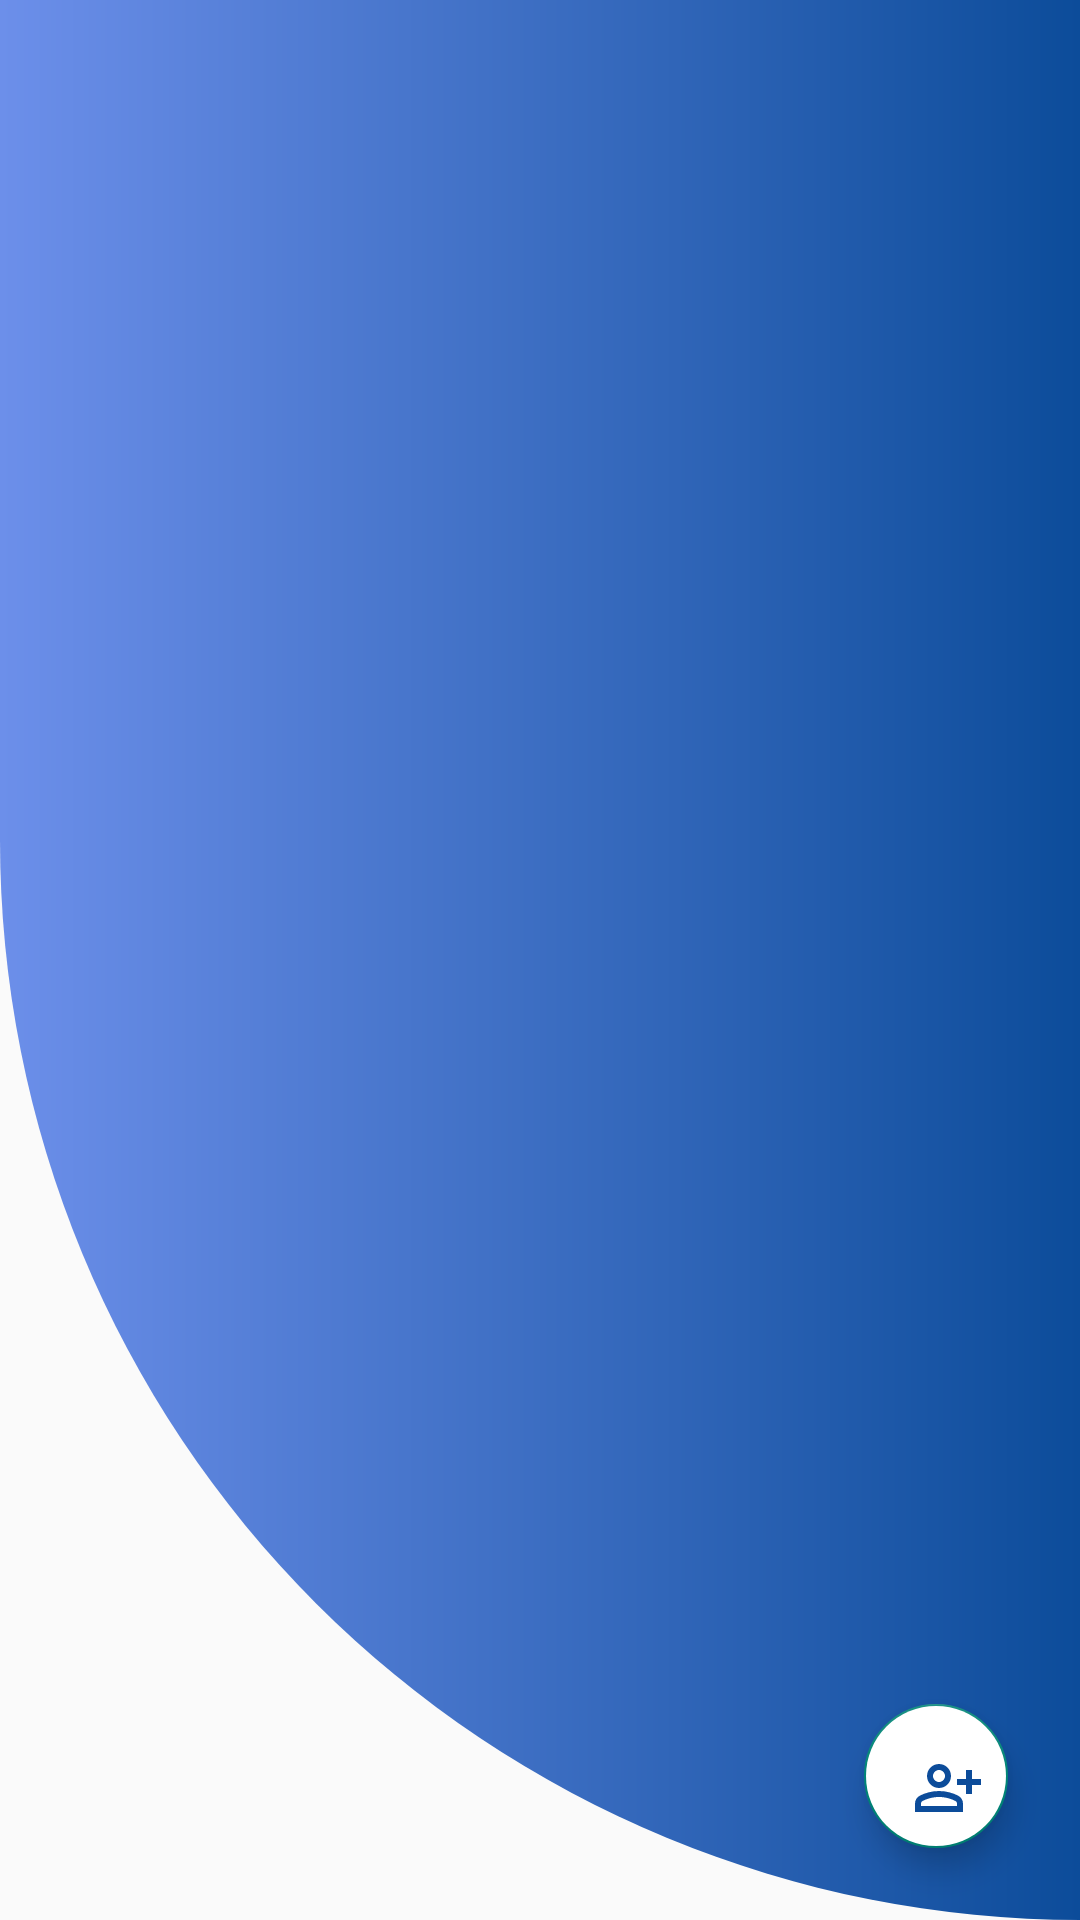

Icons on this 1080 x 1920 Android screen, each with its box as (x1, y1, x2, y2):
person add: (864, 1704, 1008, 1848)
